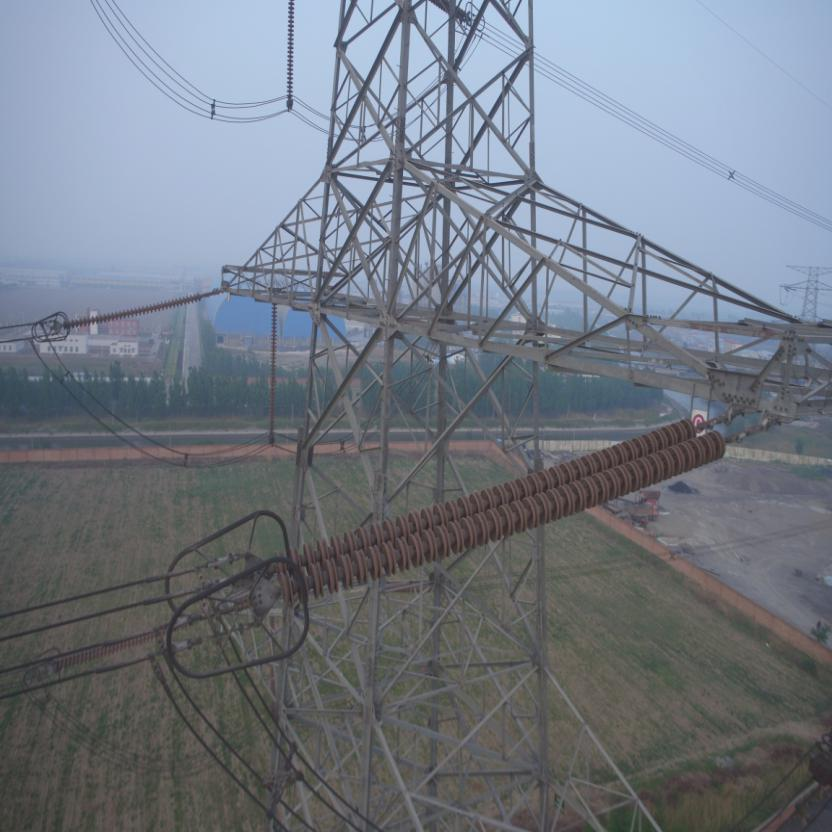insulator: (266, 414, 740, 608)
